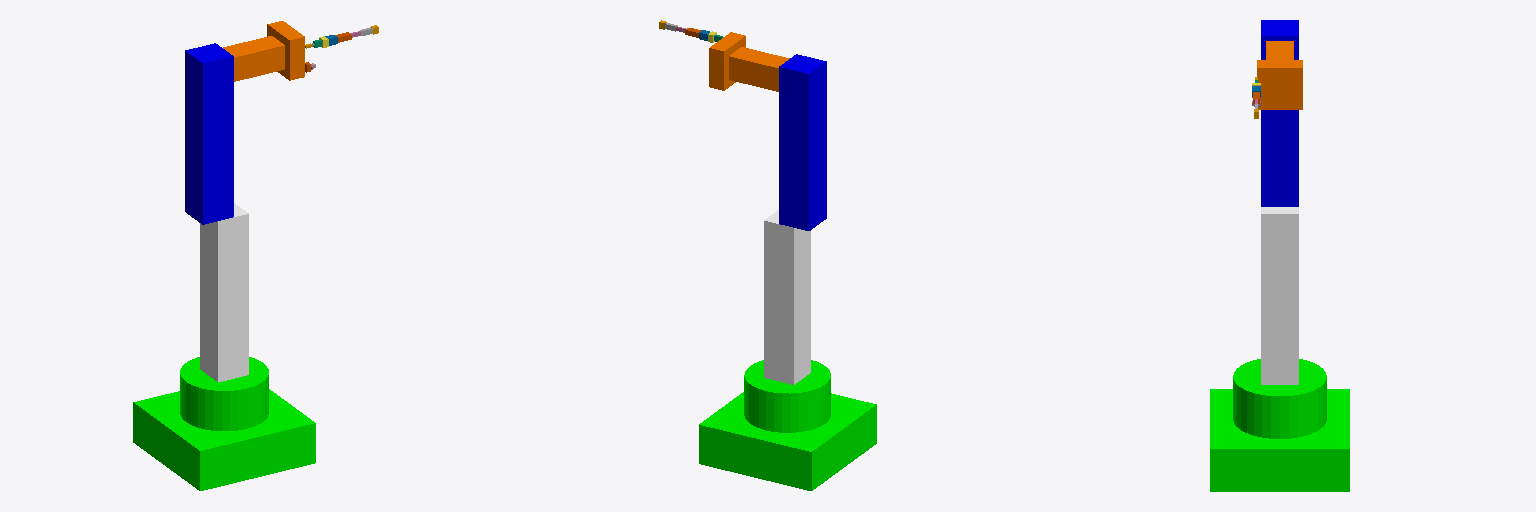
robot.urdf — robot:
<?xml version='1.0' encoding='utf-8'?>
<robot name="robot">
  <link name="base_link">
    <visual>
      <origin xyz="0 0 0.125" rpy="0 0 0" />
      <geometry>
        <box size="0.75 0.75 0.25" />
      </geometry>
      <material name="green" />
    </visual>
    <visual>
      <origin xyz="0 0 0.375" rpy="0 0 0" />
      <geometry>
        <cylinder length="0.25" radius="0.25" />
      </geometry>
      <material name="green">
        <color rgba="0 1 0 1" />
      </material>
    </visual>
    <collision>
      <geometry>
        <box size="0.75 0.75 0.5" />
      </geometry>
    </collision>
    <inertial>
      <mass value="0.5" />
      <inertia ixx="0.034" ixy="0.0" ixz="0.0" iyy="0.034" iyz="0.0" izz="0.034" />
    </inertial>
  </link>
  <link name="support_link">
    <visual>
      <origin xyz="0 0 0.5" rpy="0 0 0" />
      <geometry>
        <box size="0.2 0.2 1" />
      </geometry>
      <material name="white">
        <color rgba="1 1 1 1" />
      </material>
    </visual>
    <collision>
      <geometry>
        <box size="0.2 0.2 1" />
      </geometry>
    </collision>
    <inertial>
      <mass value="0.1" />
      <inertia ixx="0.01" ixy="0.0" ixz="0.0" iyy="0.01" iyz="0.0" izz="0.01" />
    </inertial>
  </link>
  <joint name="support_joint" type="continuous">
    <origin xyz="0 0 0.5" rpy="0 0 0" />
    <parent link="base_link" />
    <child link="support_link" />
    <axis xyz="0 0 1" />
  </joint>
  <link name="arm_link">
    <visual>
      <origin xyz="0 0 0.5" rpy="0 0 0" />
      <geometry>
        <box size="0.2 0.2 1" />
      </geometry>
      <material name="blue">
        <color rgba="0 0 1 1" />
      </material>
    </visual>
    <collision>
      <geometry>
        <box size="0.2 0.2 1" />
      </geometry>
    </collision>
    <inertial>
      <mass value="0.1" />
      <inertia ixx="0.01" ixy="0.0" ixz="0.0" iyy="0.01" iyz="0.0" izz="0.01" />
    </inertial>
  </link>
  <joint name="arm_joint" type="revolute">
    <origin xyz="-0.1 0 1" rpy="0 0 0" />
    <parent link="support_link" />
    <child link="arm_link" />
    <axis xyz="0 1 0" />
    <limit lower="-3.14" upper="3.14" effort="1.0" velocity="1.0" />
  </joint>
  <link name="wrist_link">
    <visual>
      <origin xyz="0 0 0.25" rpy="0 0 0" />
      <geometry>
        <box size="0.15 0.15 0.5" />
      </geometry>
      <material name="orange">
        <color rgba="1 0.5 0 1" />
      </material>
    </visual>
    <collision>
      <geometry>
        <box size="0.15 0.15 0.5" />
      </geometry>
    </collision>
    <inertial>
      <mass value="0.1" />
      <inertia ixx="0.01" ixy="0.0" ixz="0.0" iyy="0.01" iyz="0.0" izz="0.01" />
    </inertial>
  </link>
  <joint name="wrist_joint" type="fixed">
    <origin xyz="0 0 0.9" rpy="0 1.571 0" />
    <parent link="arm_link" />
    <child link="wrist_link" />
  </joint>
  <link name="palm_link">
    <visual>
      <origin xyz="0 0 0.05" rpy="0 0 0" />
      <geometry>
        <box size="0.25 0.25 0.1" />
      </geometry>
      <material name="orange" />
    </visual>
    <collision>
      <geometry>
        <box size="0.25 0.25 0.1" />
      </geometry>
    </collision>
    <inertial>
      <mass value="0.1" />
      <inertia ixx="0.01" ixy="0.0" ixz="0.0" iyy="0.01" iyz="0.0" izz="0.01" />
    </inertial>
  </link>
  <joint name="palm_joint" type="fixed">
    <origin xyz="0 0 0.45" rpy="0 0 0" />
    <parent link="wrist_link" />
    <child link="palm_link" />
  </joint>
  <link name="finger_link_0_0">
    <visual>
      <origin xyz="0 0 0.014" rpy="0 0 0" />
      <geometry>
        <box size="0.046 0.032 0.028" />
      </geometry>
    </visual>
    <collision>
      <geometry>
        <box size="0.046 0.032 0.028" />
      </geometry>
    </collision>
    <inertial>
      <mass value="0.012" />
      <inertia ixx="0.0" iyy="0.0" izz="0.0" ixy="0" ixz="0" iyz="0" />
    </inertial>
  </link>
  <joint name="finger_joint_palm_link_to_finger_link_0_0" type="revolute">
    <origin xyz="0.068 -0.125 0.1" rpy="0 0 0" />
    <parent link="palm_link" />
    <child link="finger_link_0_0" />
    <axis xyz="1.0 0.0 0.0" />
    <limit lower="-3.142" upper="3.142" effort="10" velocity="10" />
  </joint>
  <link name="finger_link_0_1">
    <visual>
      <origin xyz="0 0 0.0085" rpy="0 0 0" />
      <geometry>
        <box size="0.017 0.048 0.017" />
      </geometry>
    </visual>
    <collision>
      <geometry>
        <box size="0.017 0.048 0.017" />
      </geometry>
    </collision>
    <inertial>
      <mass value="0.004" />
      <inertia ixx="0.0" iyy="0.0" izz="0.0" ixy="0" ixz="0" iyz="0" />
    </inertial>
  </link>
  <joint name="finger_joint_finger_link_0_0_to_finger_link_0_1" type="revolute">
    <origin xyz="0.0 0.0 0.028" rpy="0 0 0" />
    <parent link="finger_link_0_0" />
    <child link="finger_link_0_1" />
    <axis xyz="0.0 1.0 0.0" />
    <limit lower="-3.142" upper="3.142" effort="10" velocity="10" />
  </joint>
  <link name="finger_link_0_2">
    <visual>
      <origin xyz="0 0 0.009" rpy="0 0 0" />
      <geometry>
        <box size="0.021 0.022 0.018" />
      </geometry>
    </visual>
    <collision>
      <geometry>
        <box size="0.021 0.022 0.018" />
      </geometry>
    </collision>
    <inertial>
      <mass value="0.002" />
      <inertia ixx="0.0" iyy="0.0" izz="0.0" ixy="0" ixz="0" iyz="0" />
    </inertial>
  </link>
  <joint name="finger_joint_finger_link_0_1_to_finger_link_0_2" type="revolute">
    <origin xyz="0.0 0.0 0.017" rpy="0 0 0" />
    <parent link="finger_link_0_1" />
    <child link="finger_link_0_2" />
    <axis xyz="1.0 0.0 0.0" />
    <limit lower="-3.142" upper="3.142" effort="10" velocity="10" />
  </joint>
  <link name="finger_link_1_0">
    <visual>
      <origin xyz="0 0 0.0215" rpy="0 0 0" />
      <geometry>
        <box size="0.016 0.018 0.043" />
      </geometry>
    </visual>
    <collision>
      <geometry>
        <box size="0.016 0.018 0.043" />
      </geometry>
    </collision>
    <inertial>
      <mass value="0.004" />
      <inertia ixx="0.0" iyy="0.0" izz="0.0" ixy="0" ixz="0" iyz="0" />
    </inertial>
  </link>
  <joint name="finger_joint_palm_link_to_finger_link_1_0" type="revolute">
    <origin xyz="-0.063 -0.125 0.1" rpy="0 0 0" />
    <parent link="palm_link" />
    <child link="finger_link_1_0" />
    <axis xyz="1.0 0.0 0.0" />
    <limit lower="-3.142" upper="3.142" effort="10" velocity="10" />
  </joint>
  <link name="finger_link_1_1">
    <visual>
      <origin xyz="0 0 0.0075" rpy="0 0 0" />
      <geometry>
        <box size="0.012 0.012 0.015" />
      </geometry>
    </visual>
    <collision>
      <geometry>
        <box size="0.012 0.012 0.015" />
      </geometry>
    </collision>
    <inertial>
      <mass value="0.001" />
      <inertia ixx="0.0" iyy="0.0" izz="0.0" ixy="0" ixz="0" iyz="0" />
    </inertial>
  </link>
  <joint name="finger_joint_finger_link_1_0_to_finger_link_1_1" type="revolute">
    <origin xyz="0.0 0.0 0.043" rpy="0 0 0" />
    <parent link="finger_link_1_0" />
    <child link="finger_link_1_1" />
    <axis xyz="1.0 0.0 0.0" />
    <limit lower="-3.142" upper="3.142" effort="10" velocity="10" />
  </joint>
  <link name="finger_link_1_2">
    <visual>
      <origin xyz="0 0 0.0235" rpy="0 0 0" />
      <geometry>
        <box size="0.037 0.019 0.047" />
      </geometry>
    </visual>
    <collision>
      <geometry>
        <box size="0.037 0.019 0.047" />
      </geometry>
    </collision>
    <inertial>
      <mass value="0.01" />
      <inertia ixx="0.0" iyy="0.0" izz="0.0" ixy="0" ixz="0" iyz="0" />
    </inertial>
  </link>
  <joint name="finger_joint_finger_link_1_1_to_finger_link_1_2" type="revolute">
    <origin xyz="0.0 0.0 0.015" rpy="0 0 0" />
    <parent link="finger_link_1_1" />
    <child link="finger_link_1_2" />
    <axis xyz="0.0 1.0 0.0" />
    <limit lower="-3.142" upper="3.142" effort="10" velocity="10" />
  </joint>
  <link name="finger_link_1_3">
    <visual>
      <origin xyz="0 0 0.017" rpy="0 0 0" />
      <geometry>
        <box size="0.049 0.047 0.034" />
      </geometry>
    </visual>
    <collision>
      <geometry>
        <box size="0.049 0.047 0.034" />
      </geometry>
    </collision>
    <inertial>
      <mass value="0.023" />
      <inertia ixx="0.0" iyy="0.0" izz="0.0" ixy="0" ixz="0" iyz="0" />
    </inertial>
  </link>
  <joint name="finger_joint_finger_link_1_2_to_finger_link_1_3" type="revolute">
    <origin xyz="0.0 0.0 0.047" rpy="0 0 0" />
    <parent link="finger_link_1_2" />
    <child link="finger_link_1_3" />
    <axis xyz="0.0 1.0 0.0" />
    <limit lower="-3.142" upper="3.142" effort="10" velocity="10" />
  </joint>
  <link name="finger_link_1_4">
    <visual>
      <origin xyz="0 0 0.03" rpy="0 0 0" />
      <geometry>
        <box size="0.042 0.045 0.06" />
      </geometry>
    </visual>
    <collision>
      <geometry>
        <box size="0.042 0.045 0.06" />
      </geometry>
    </collision>
    <inertial>
      <mass value="0.034" />
      <inertia ixx="0.0" iyy="0.0" izz="0.0" ixy="0" ixz="0" iyz="0" />
    </inertial>
  </link>
  <joint name="finger_joint_finger_link_1_3_to_finger_link_1_4" type="revolute">
    <origin xyz="0.0 0.0 0.034" rpy="0 0 0" />
    <parent link="finger_link_1_3" />
    <child link="finger_link_1_4" />
    <axis xyz="0.0 1.0 0.0" />
    <limit lower="-3.142" upper="3.142" effort="10" velocity="10" />
  </joint>
  <link name="finger_link_1_5">
    <visual>
      <origin xyz="0 0 0.046" rpy="0 0 0" />
      <geometry>
        <box size="0.031 0.041 0.092" />
      </geometry>
    </visual>
    <collision>
      <geometry>
        <box size="0.031 0.041 0.092" />
      </geometry>
    </collision>
    <inertial>
      <mass value="0.035" />
      <inertia ixx="0.0" iyy="0.0" izz="0.0" ixy="0" ixz="0" iyz="0" />
    </inertial>
  </link>
  <joint name="finger_joint_finger_link_1_4_to_finger_link_1_5" type="revolute">
    <origin xyz="0.0 0.0 0.06" rpy="0 0 0" />
    <parent link="finger_link_1_4" />
    <child link="finger_link_1_5" />
    <axis xyz="0.0 1.0 0.0" />
    <limit lower="-3.142" upper="3.142" effort="10" velocity="10" />
  </joint>
  <link name="finger_link_1_6">
    <visual>
      <origin xyz="0 0 0.034" rpy="0 0 0" />
      <geometry>
        <box size="0.024 0.013 0.068" />
      </geometry>
    </visual>
    <collision>
      <geometry>
        <box size="0.024 0.013 0.068" />
      </geometry>
    </collision>
    <inertial>
      <mass value="0.006" />
      <inertia ixx="0.0" iyy="0.0" izz="0.0" ixy="0" ixz="0" iyz="0" />
    </inertial>
  </link>
  <joint name="finger_joint_finger_link_1_5_to_finger_link_1_6" type="revolute">
    <origin xyz="0.0 0.0 0.092" rpy="0 0 0" />
    <parent link="finger_link_1_5" />
    <child link="finger_link_1_6" />
    <axis xyz="0.0 1.0 0.0" />
    <limit lower="-3.142" upper="3.142" effort="10" velocity="10" />
  </joint>
  <link name="finger_link_1_7">
    <visual>
      <origin xyz="0 0 0.037" rpy="0 0 0" />
      <geometry>
        <box size="0.032 0.02 0.074" />
      </geometry>
    </visual>
    <collision>
      <geometry>
        <box size="0.032 0.02 0.074" />
      </geometry>
    </collision>
    <inertial>
      <mass value="0.014" />
      <inertia ixx="0.0" iyy="0.0" izz="0.0" ixy="0" ixz="0" iyz="0" />
    </inertial>
  </link>
  <joint name="finger_joint_finger_link_1_6_to_finger_link_1_7" type="revolute">
    <origin xyz="0.0 0.0 0.068" rpy="0 0 0" />
    <parent link="finger_link_1_6" />
    <child link="finger_link_1_7" />
    <axis xyz="0.0 1.0 0.0" />
    <limit lower="-3.142" upper="3.142" effort="10" velocity="10" />
  </joint>
  <link name="finger_link_1_8">
    <visual>
      <origin xyz="0 0 0.018" rpy="0 0 0" />
      <geometry>
        <box size="0.042 0.025 0.036" />
      </geometry>
    </visual>
    <collision>
      <geometry>
        <box size="0.042 0.025 0.036" />
      </geometry>
    </collision>
    <inertial>
      <mass value="0.011" />
      <inertia ixx="0.0" iyy="0.0" izz="0.0" ixy="0" ixz="0" iyz="0" />
    </inertial>
  </link>
  <joint name="finger_joint_finger_link_1_7_to_finger_link_1_8" type="revolute">
    <origin xyz="0.0 0.0 0.074" rpy="0 0 0" />
    <parent link="finger_link_1_7" />
    <child link="finger_link_1_8" />
    <axis xyz="0.0 1.0 0.0" />
    <limit lower="-3.142" upper="3.142" effort="10" velocity="10" />
  </joint>
</robot>

--- What the picture shows (computed from the rendered views, not written in the file) ---
Views: 3 orthographic renders of the robot side by side, from view 1: azimuth 30°, elevation 25°; view 2: azimuth 150°, elevation 25°; view 3: azimuth 270°, elevation 25°.
Model robot with 17 links and 16 joints (13 revolute, 1 continuous, 2 fixed), rooted at base_link, posed all joints at 0.
Links seen in each view (by area): view 1: base_link, arm_link, support_link, wrist_link, palm_link; view 2: base_link, arm_link, support_link, wrist_link, palm_link; view 3: base_link, support_link, arm_link, palm_link, wrist_link.
Link boxes in pixels (x1=…): base_link: x1=133, y1=357, x2=315, y2=490; arm_link: x1=185, y1=43, x2=233, y2=224; support_link: x1=200, y1=203, x2=248, y2=381; wrist_link: x1=223, y1=36, x2=284, y2=81; palm_link: x1=267, y1=21, x2=304, y2=80; base_link: x1=699, y1=360, x2=876, y2=490; arm_link: x1=779, y1=54, x2=826, y2=230; support_link: x1=764, y1=210, x2=810, y2=384; wrist_link: x1=729, y1=47, x2=789, y2=91; palm_link: x1=709, y1=32, x2=745, y2=90; base_link: x1=1210, y1=359, x2=1349, y2=491; support_link: x1=1261, y1=207, x2=1298, y2=384; arm_link: x1=1261, y1=20, x2=1298, y2=206; palm_link: x1=1257, y1=60, x2=1302, y2=109; wrist_link: x1=1266, y1=41, x2=1293, y2=59.
Bounding box of the posed robot: 1.29 × 0.75 × 2.52 m (x, y, z).
Geometry: primitives only (box / cylinder / sphere), no mesh files.